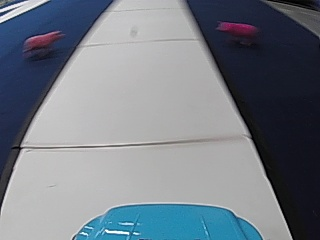pig: (22, 27, 63, 60), (215, 17, 259, 46)
